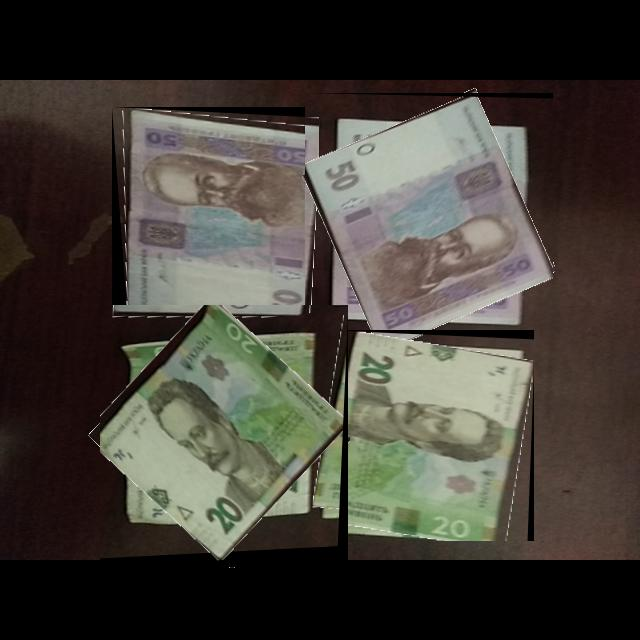20uah: (100, 305, 345, 563), (322, 332, 534, 542)
50uah: (306, 96, 554, 349), (125, 108, 319, 326)
